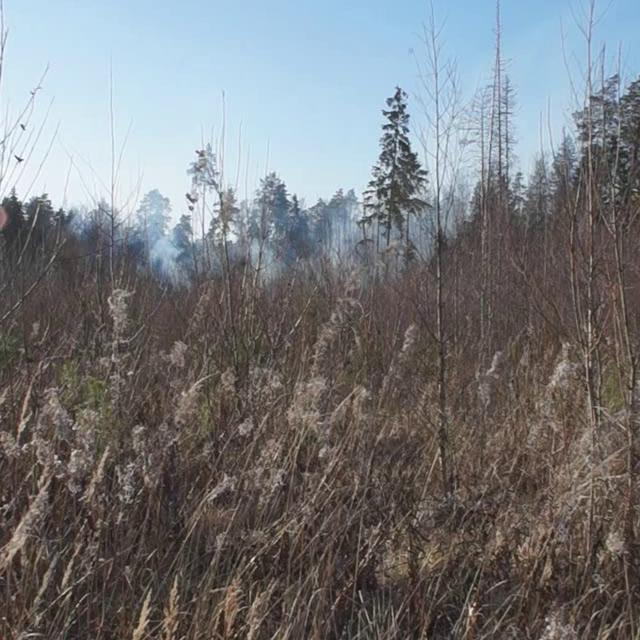Smoke: (85, 138, 494, 304)
